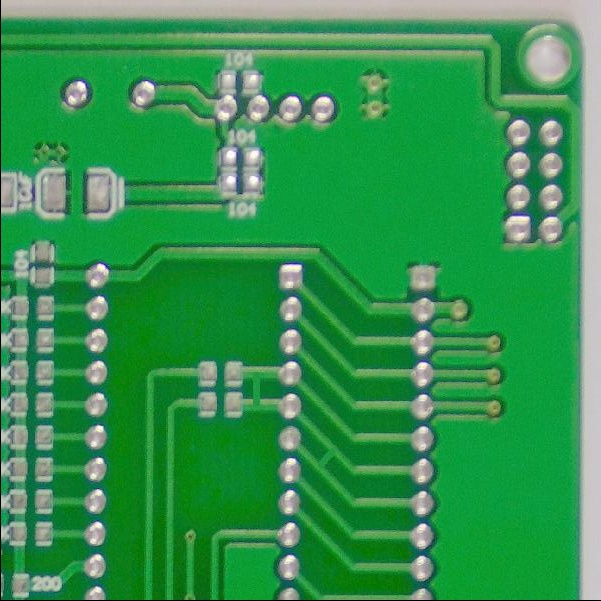short: (244, 358, 268, 417), (311, 439, 338, 476)
